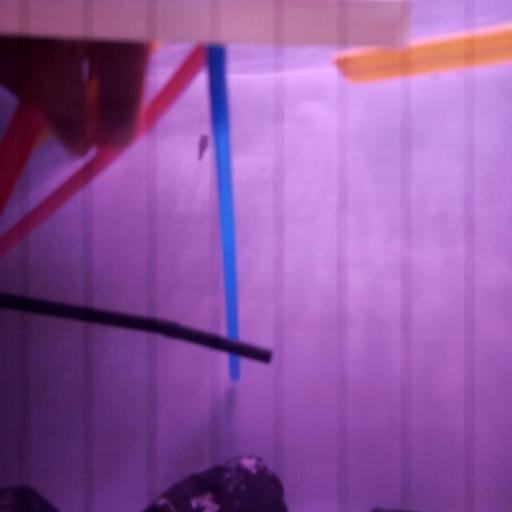plastic_straw: (2, 46, 206, 257), (0, 288, 277, 367), (2, 0, 417, 51), (204, 42, 242, 384), (330, 22, 512, 85), (0, 95, 49, 212)
